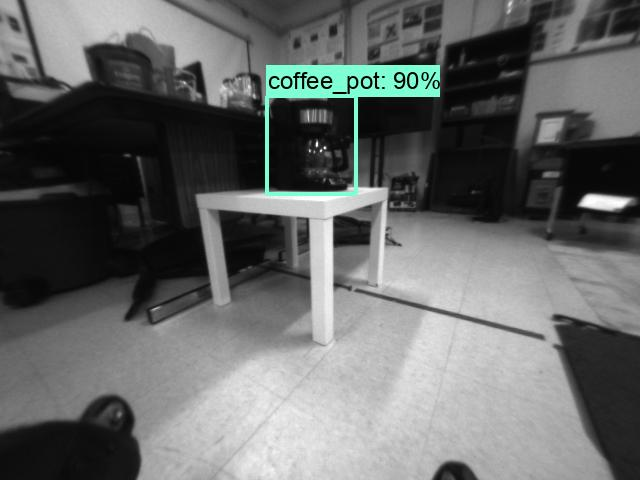coffee_pot: (267, 99, 353, 193)
